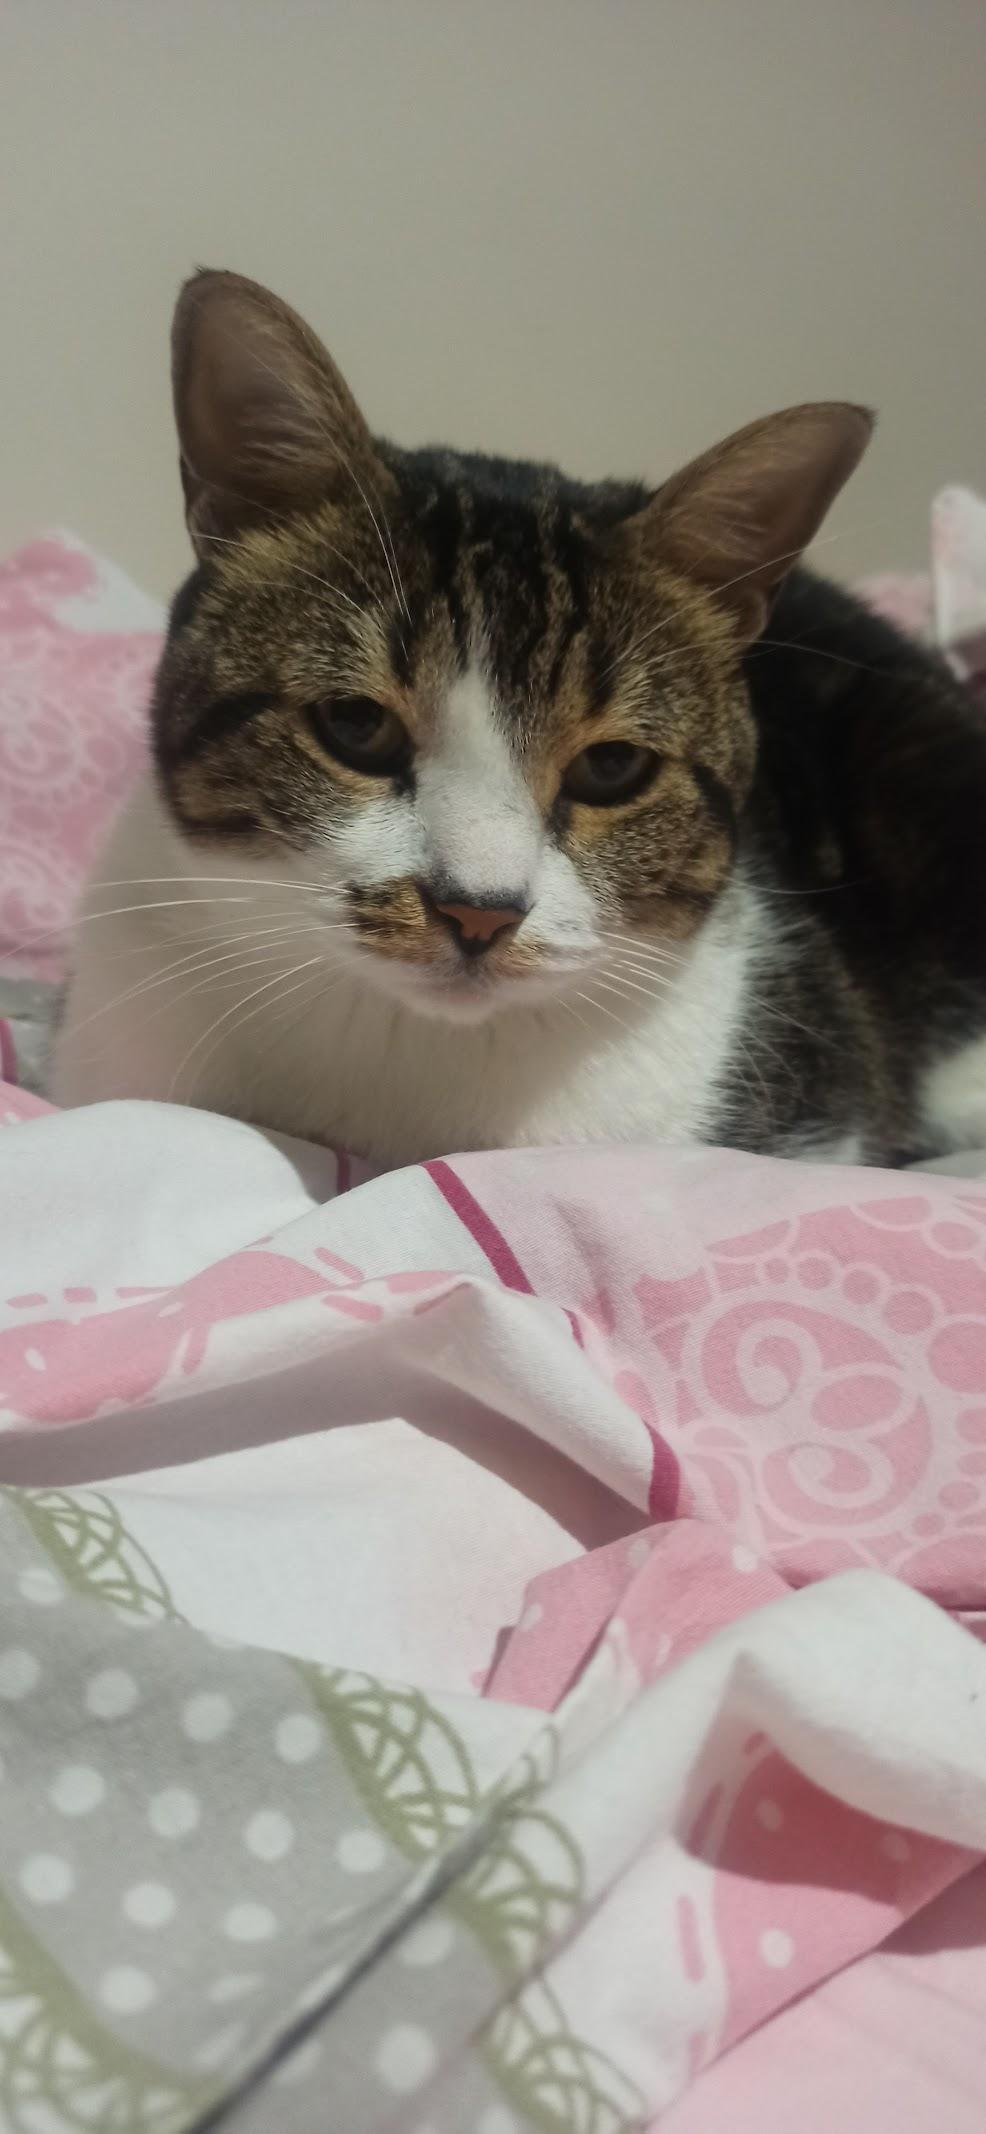kedo: (57, 263, 986, 1162)
